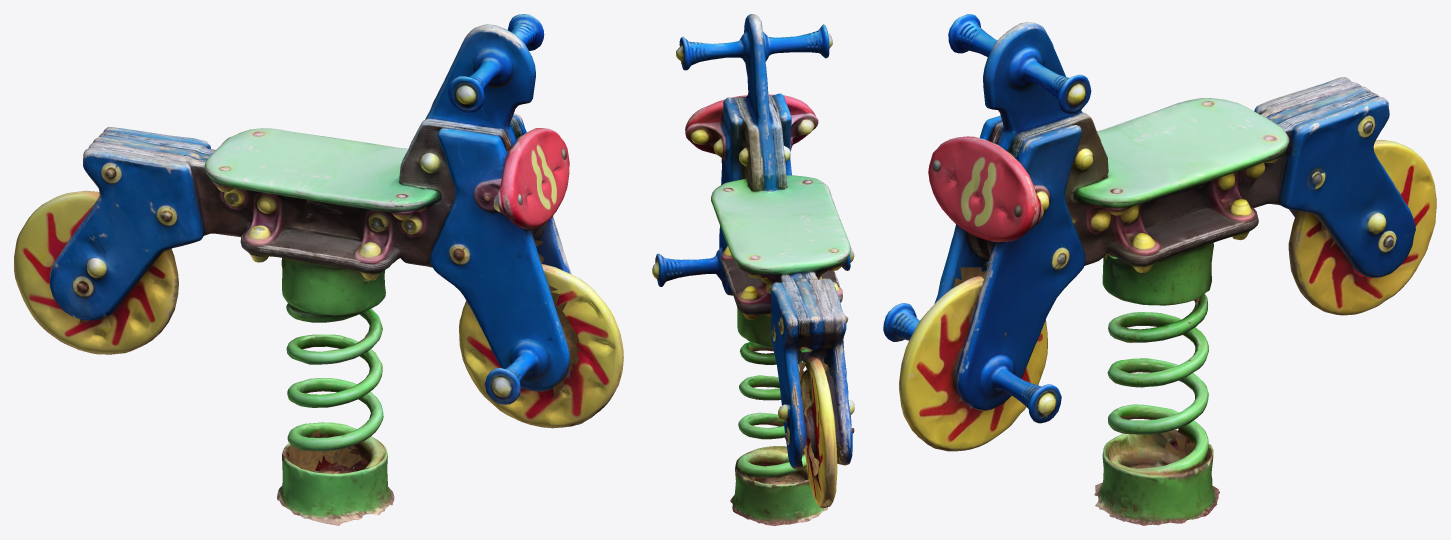
File: mesh_lowpoly.obj
The picture shows the model from 3 angles, left to right: view 1: azimuth 30°, elevation 25°; view 2: azimuth 150°, elevation 25°; view 3: azimuth 270°, elevation 25°; orthographic projection. The views are drawn at different scales.
Size of the model in its own units: 1.86 by 2.23 by 2.13.
6 materials, 6 textured.
